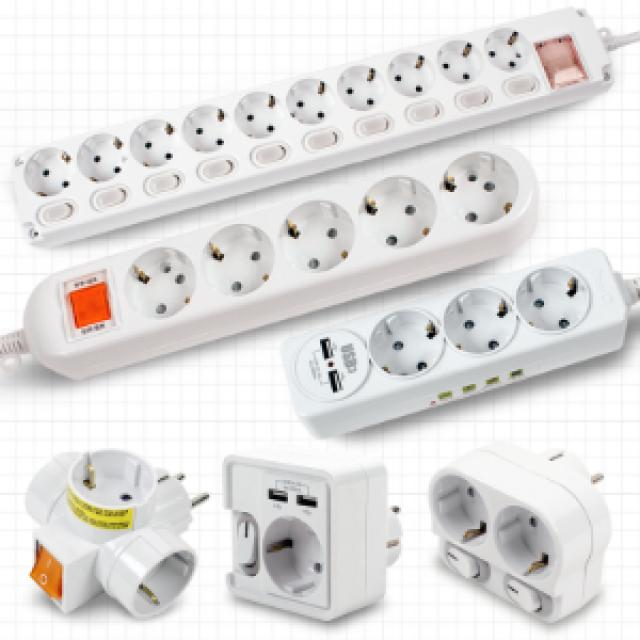typeb: (3, 1, 639, 234), (274, 239, 640, 451)
